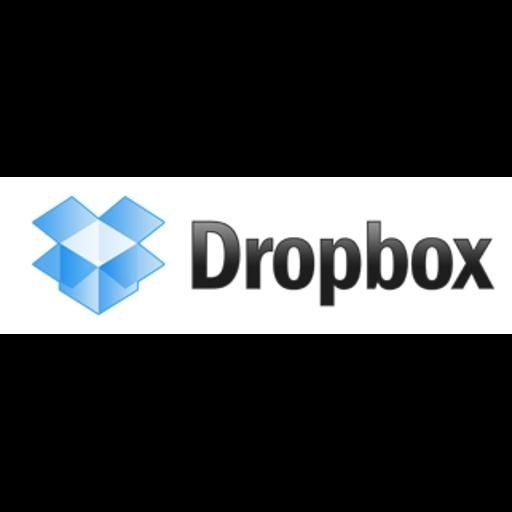Dropbox: (0, 177, 512, 334)
